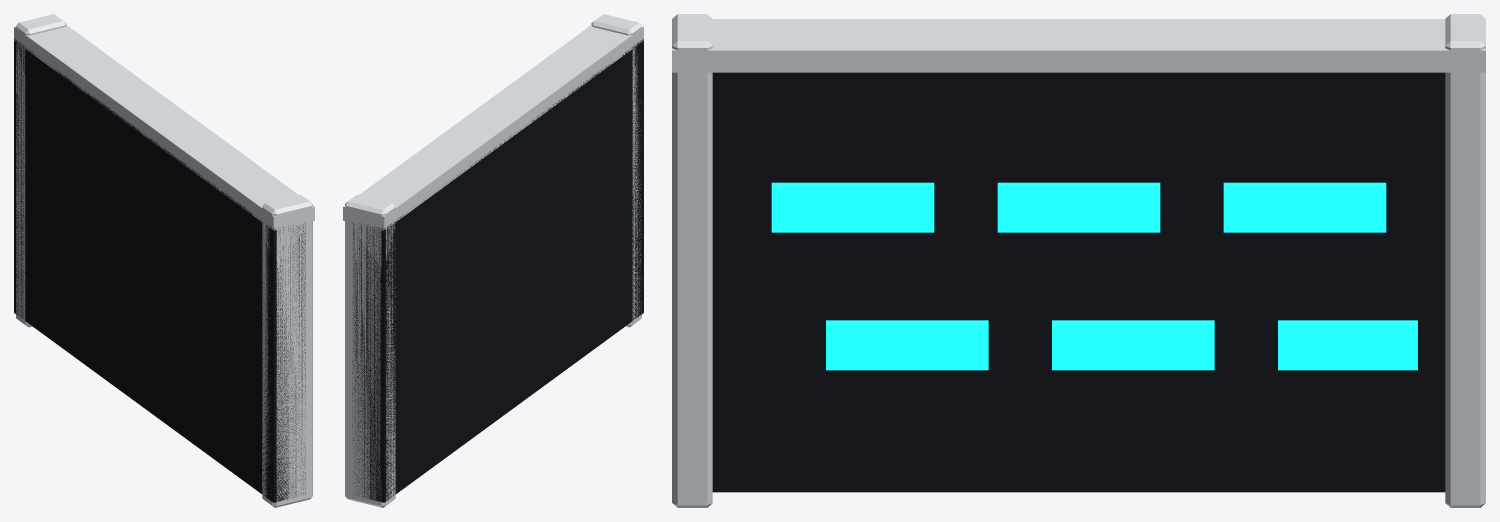
File: skirt_neon_dash.glb
3 views of the same model, side by side, from view 1: azimuth 30°, elevation 25°; view 2: azimuth 150°, elevation 25°; view 3: azimuth 270°, elevation 25° (orthographic). The views are drawn at different scales.
Parts seen in each view (by area): view 1: skirt_neon_dash_MID_deco_body, skirt_neon_dash_HEAD_chrome, skirt_neon_dash_MID_chrome, skirt_neon_dash_HEAD_deco_body, skirt_neon_dash_TAIL_deco_body, skirt_neon_dash_TAIL_chrome; view 2: skirt_neon_dash_MID_deco_body, skirt_neon_dash_TAIL_chrome, skirt_neon_dash_TAIL_deco_body, skirt_neon_dash_MID_chrome, skirt_neon_dash_HEAD_deco_body, skirt_neon_dash_HEAD_chrome; view 3: skirt_neon_dash_MID_deco_body, skirt_neon_dash_MID_deco_neon, skirt_neon_dash_MID_chrome, skirt_neon_dash_HEAD_chrome, skirt_neon_dash_TAIL_chrome, skirt_neon_dash_HEAD_deco_body, skirt_neon_dash_TAIL_deco_body.
Part boxes in pixels (x1,y1,x2,y2): skirt_neon_dash_MID_deco_body: (35,55,251,486); skirt_neon_dash_HEAD_chrome: (252,191,314,507); skirt_neon_dash_MID_chrome: (35,32,292,213); skirt_neon_dash_HEAD_deco_body: (252,215,305,502); skirt_neon_dash_TAIL_deco_body: (14,39,35,328); skirt_neon_dash_TAIL_chrome: (14,14,76,327); skirt_neon_dash_MID_deco_body: (406,57,622,486); skirt_neon_dash_TAIL_chrome: (343,191,405,507); skirt_neon_dash_TAIL_deco_body: (352,215,405,502); skirt_neon_dash_MID_chrome: (365,32,622,214); skirt_neon_dash_HEAD_deco_body: (622,39,643,328); skirt_neon_dash_HEAD_chrome: (581,14,643,327); skirt_neon_dash_MID_deco_body: (740,72,1417,492); skirt_neon_dash_MID_deco_neon: (771,182,1417,370); skirt_neon_dash_MID_chrome: (740,19,1417,72); skirt_neon_dash_HEAD_chrome: (672,14,739,507); skirt_neon_dash_TAIL_chrome: (1418,14,1485,507); skirt_neon_dash_HEAD_deco_body: (712,72,739,492); skirt_neon_dash_TAIL_deco_body: (1418,72,1445,492).
Size of the model in its own units: 0.055 by 0.38 by 0.6.
